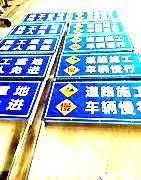sign: (52, 80, 140, 117), (59, 54, 139, 77), (1, 53, 47, 76), (1, 81, 30, 117), (64, 36, 132, 51), (1, 37, 57, 51), (69, 22, 125, 34), (10, 24, 63, 35), (71, 11, 118, 20), (24, 14, 64, 21)
